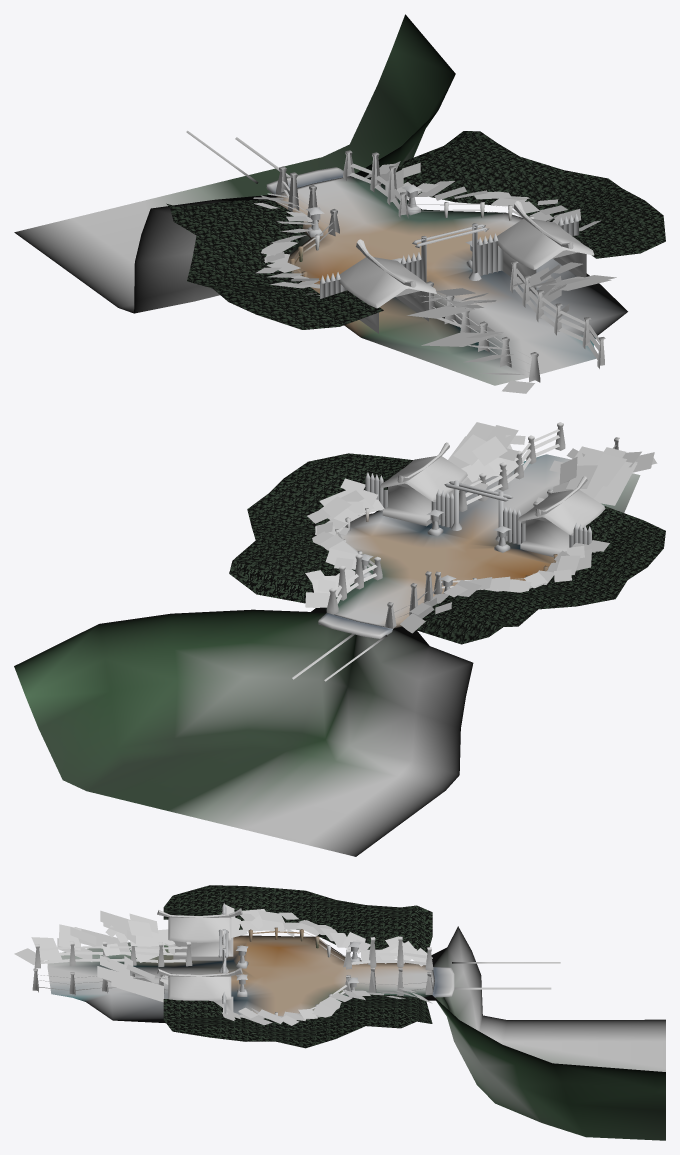
The model's file is zone04.FBX.
3 renders of one model, top to bottom at view 1: azimuth 30°, elevation 25°; view 2: azimuth 150°, elevation 25°; view 3: azimuth 270°, elevation 25°, orthographic. The views are drawn at different scales.
Visible parts, largest first — view 1: Object13, Box06, Object07, Object717, Object718; view 2: Object13, Box06, Object07, Object717, Object718; view 3: Object13, Box06, Object07, Object718, Object717.
Boxes of the visible parts, x1,y1,x2,y2 form: Object13: (14, 14, 627, 385); Box06: (166, 131, 665, 329); Object07: (407, 262, 616, 393); Object717: (365, 161, 601, 231); Object718: (253, 193, 320, 295); Object13: (14, 422, 640, 856); Box06: (229, 453, 665, 644); Object07: (448, 422, 657, 505); Object717: (305, 478, 384, 607); Object718: (400, 540, 609, 633); Object13: (32, 903, 665, 1140); Box06: (163, 885, 432, 1048); Object07: (14, 910, 180, 1002); Object718: (221, 904, 432, 966); Object717: (221, 988, 432, 1025).
Bounding box in the file's own units: 4431 × 1668 × 7195.
